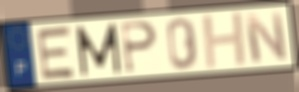0: (165, 16, 198, 72)
E: (35, 24, 79, 82)
H: (200, 10, 250, 72)
M: (73, 22, 123, 78)
N: (242, 10, 290, 65)
P: (119, 19, 159, 75)
